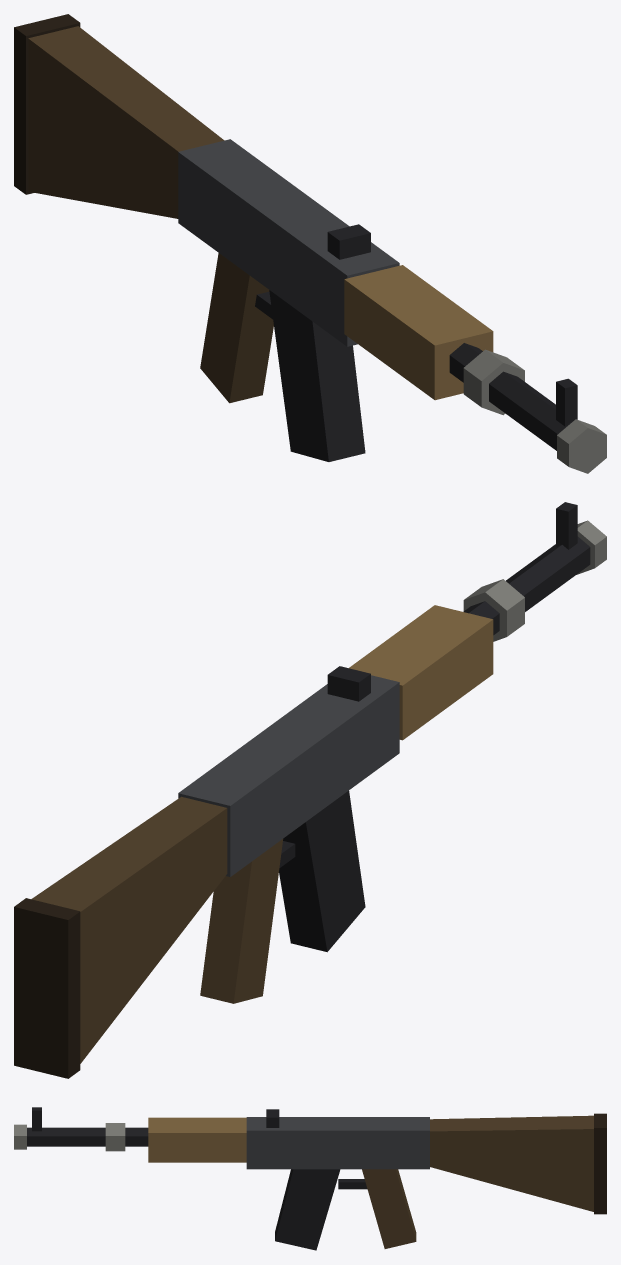
Rendered from rifle.glb.
The picture shows the model from 3 angles, top to bottom: view 1: azimuth 30°, elevation 25°; view 2: azimuth 150°, elevation 25°; view 3: azimuth 270°, elevation 25°; orthographic projection. The views are drawn at different scales.
Visible parts, largest first — view 1: rifle; view 2: rifle; view 3: rifle.
Part boxes in pixels (bbox=[...]): rifle: bbox=[14, 14, 606, 473]; rifle: bbox=[14, 502, 606, 1078]; rifle: bbox=[14, 1107, 606, 1250].
Bounding box in the file's own units: 0.056 × 0.2304 × 0.905.
